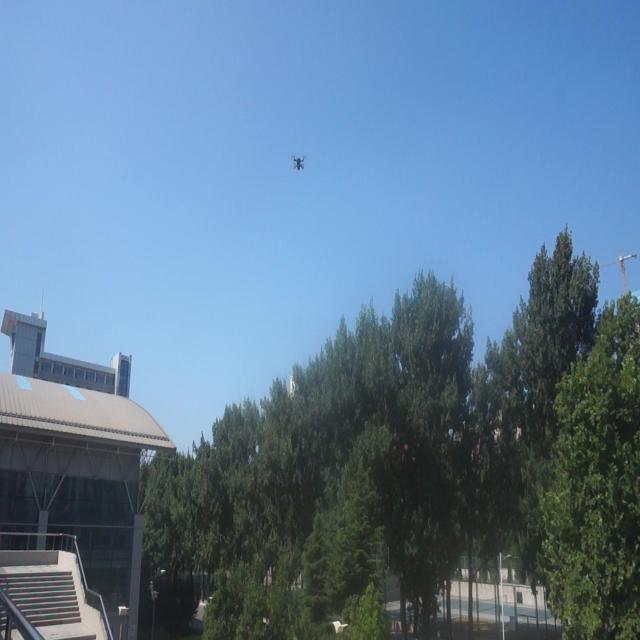drone: (292, 152, 308, 174)
